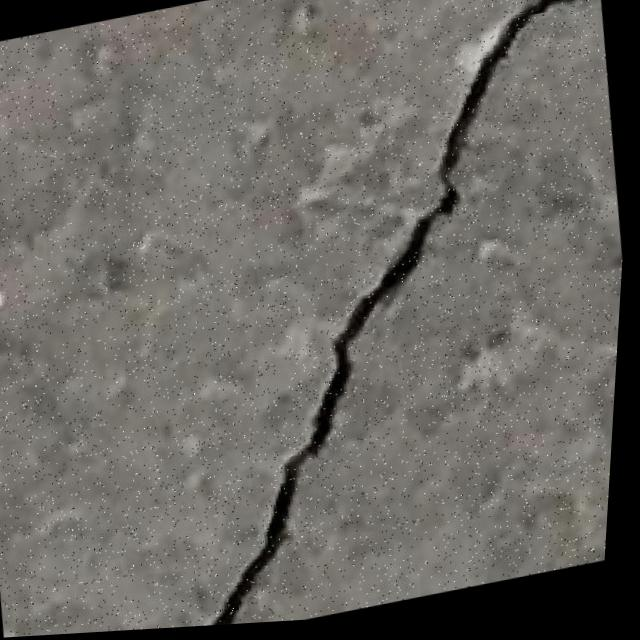Crack: (115, 0, 640, 633)
